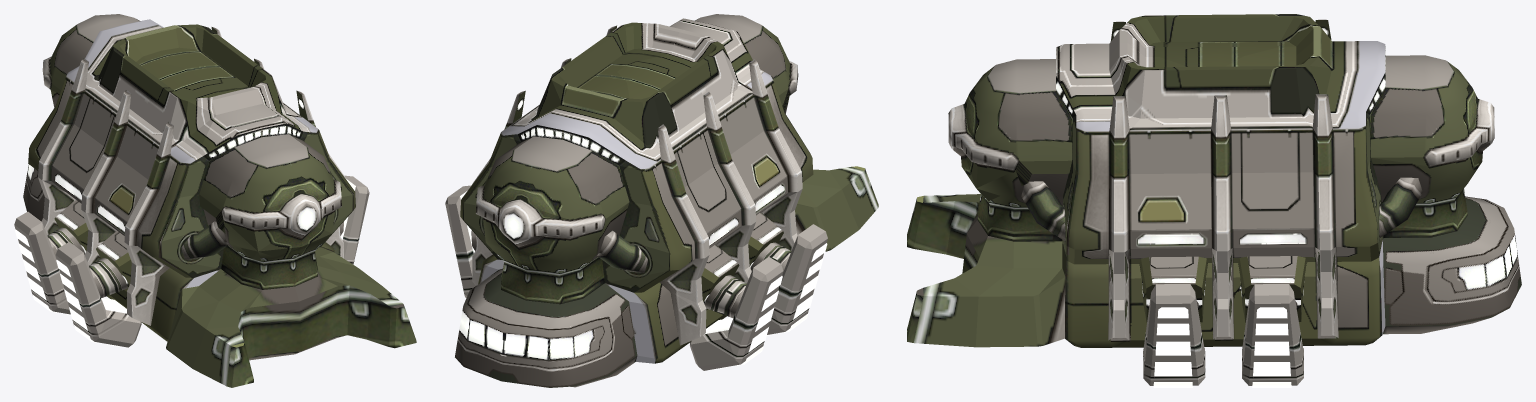
The model's file is TrainEngineCar.fbx.
3 views of the same model, side by side, from view 1: azimuth 30°, elevation 25°; view 2: azimuth 150°, elevation 25°; view 3: azimuth 270°, elevation 25° (orthographic). The views are drawn at different scales.
Parts seen in each view (by area): view 1: TrainEngineCar; view 2: TrainEngineCar; view 3: TrainEngineCar.
Part boxes in pixels (x1,y1,x2,y2): TrainEngineCar: [14, 14, 416, 387]; TrainEngineCar: [445, 14, 878, 387]; TrainEngineCar: [907, 14, 1521, 387].
Size of the model in its own units: 3.17 by 2.43 by 4.7.
